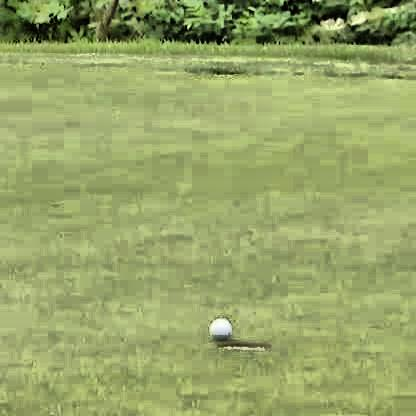golfball: (205, 313, 230, 340)
